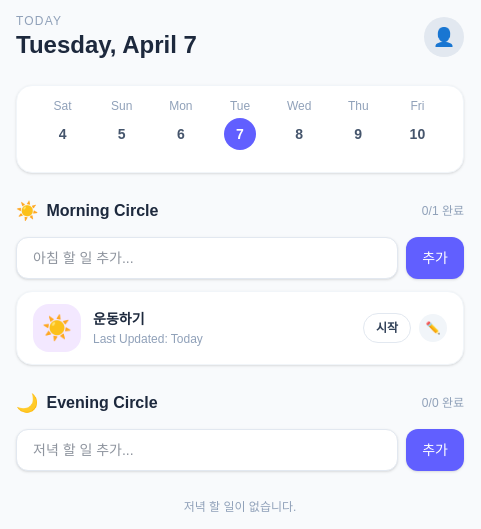
Test: Home › 시작 버튼을 누르면 '진행중'으로 바뀐다
Expected: the text "운동하기" is shown, [93, 311, 144, 327]
Click the button "시작": (387, 328) [363, 313, 411, 343]
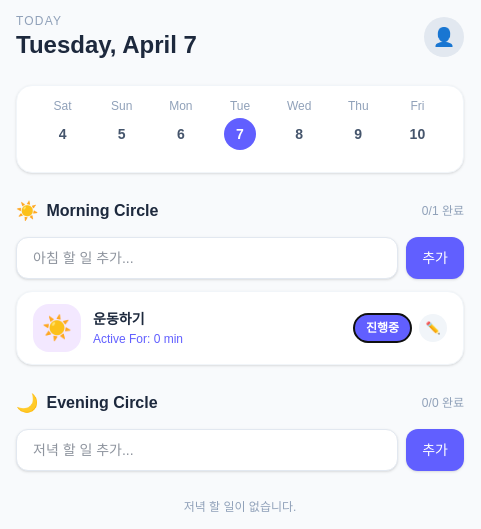
Now the button "진행중" is shown, box [354, 314, 411, 342]
